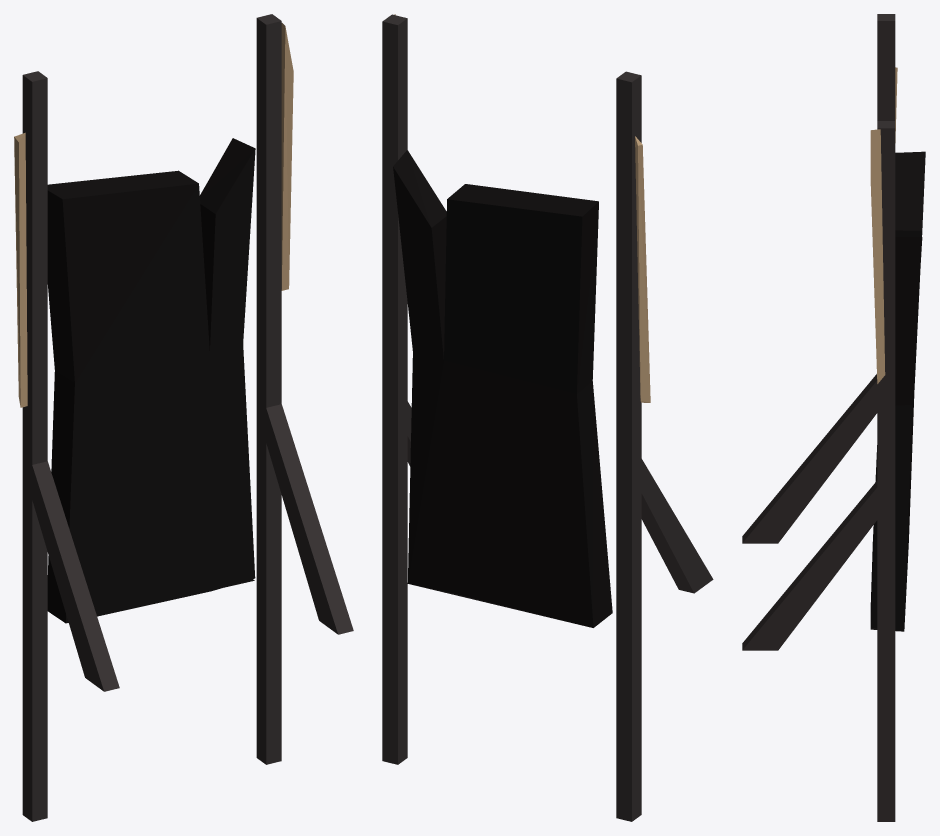
The model's file is obj_bridge_2_0.obj.
3 views of the same model, side by side, from view 1: azimuth 30°, elevation 25°; view 2: azimuth 150°, elevation 25°; view 3: azimuth 270°, elevation 25° (orthographic). The views are drawn at different scales.
Bounding box in the file's own units: 2.02 × 5.31 × 1.27.
